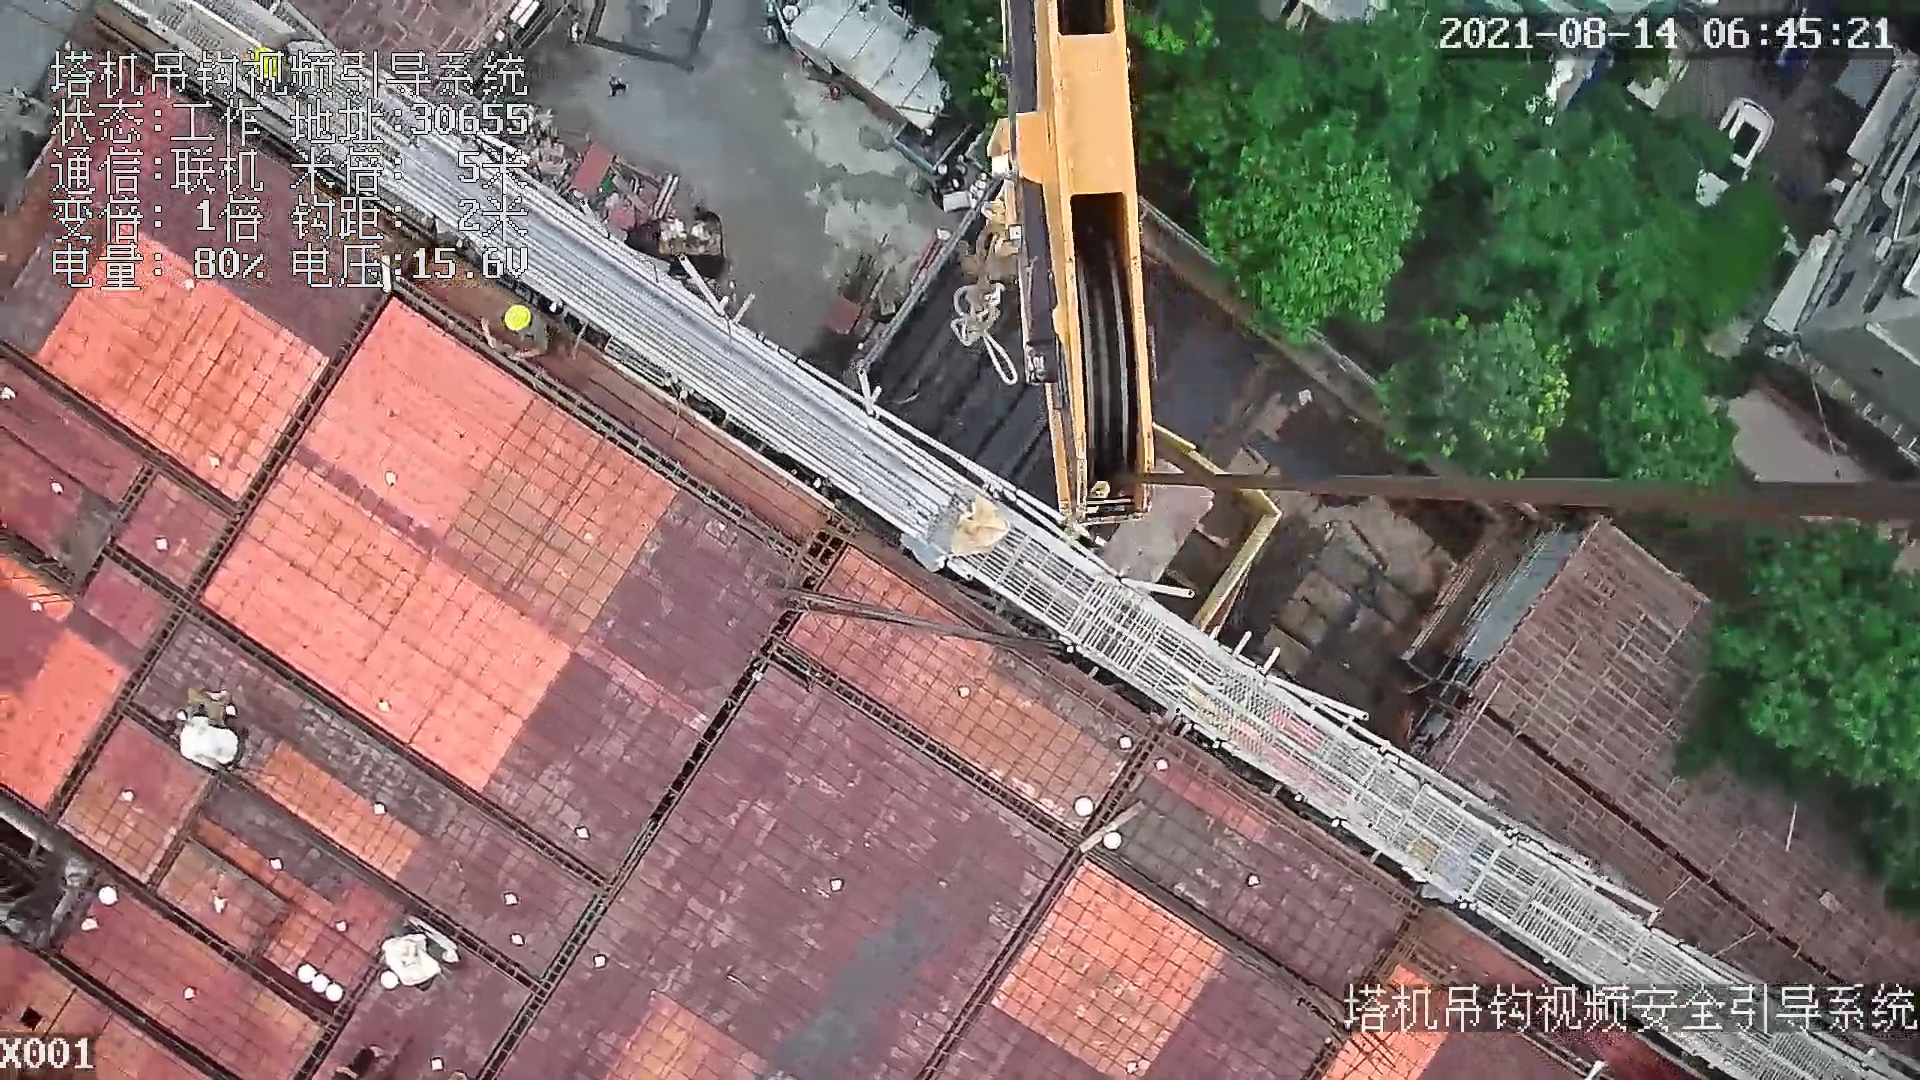helmet: (504, 302, 530, 330)
hook: (935, 1, 1159, 522)
person: (156, 712, 252, 779), (477, 300, 568, 358)
